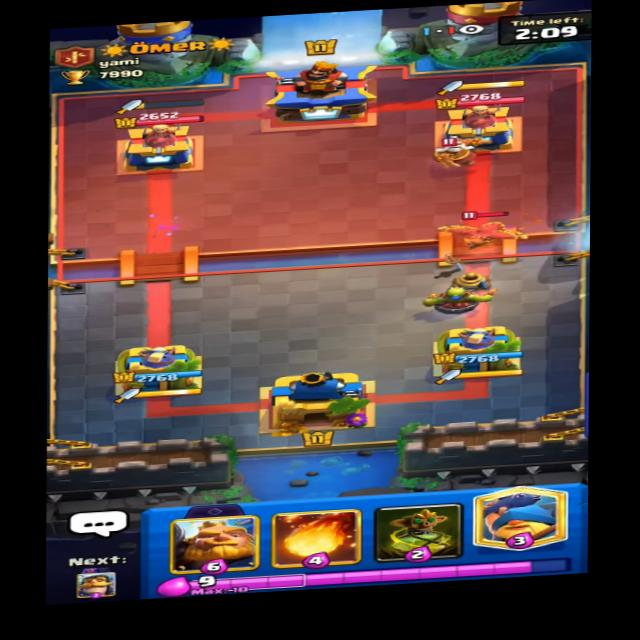Barbarianhut: (428, 131, 487, 170)
Pheonix: (449, 206, 526, 253)
